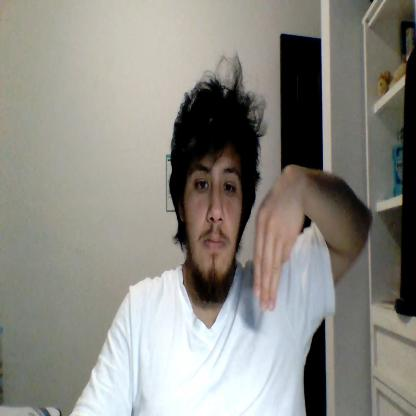M: (254, 178, 304, 309)
